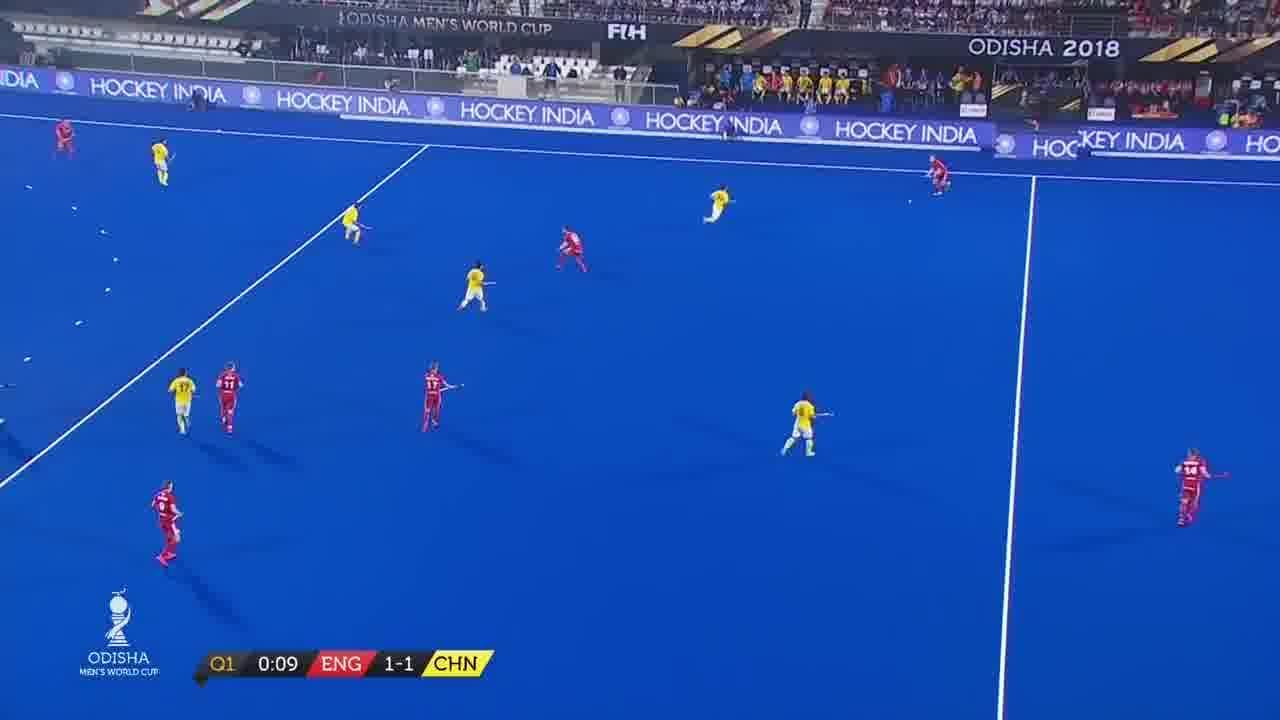ball: (900, 193, 924, 210)
